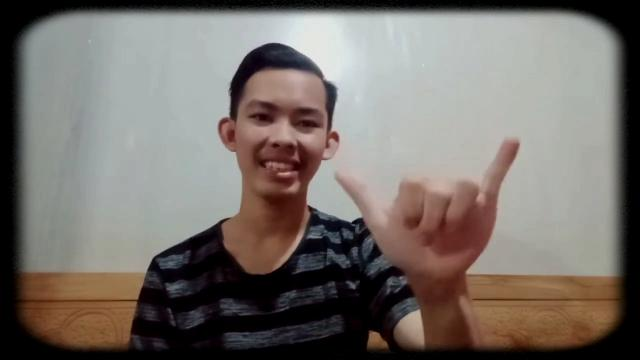Y: (334, 138, 526, 286)
